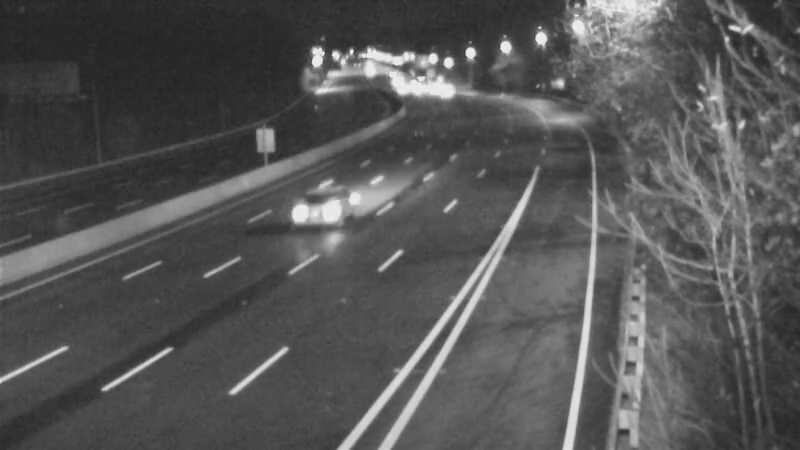vehicle: (273, 171, 353, 251)
